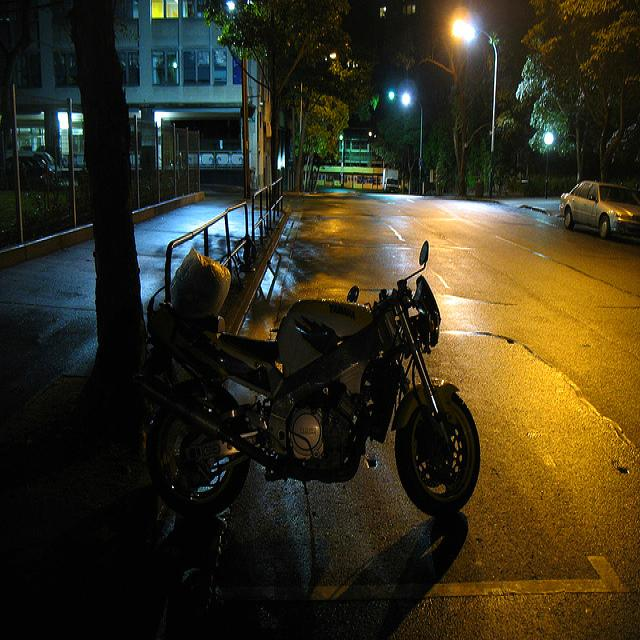Motorbike: (138, 238, 479, 528)
